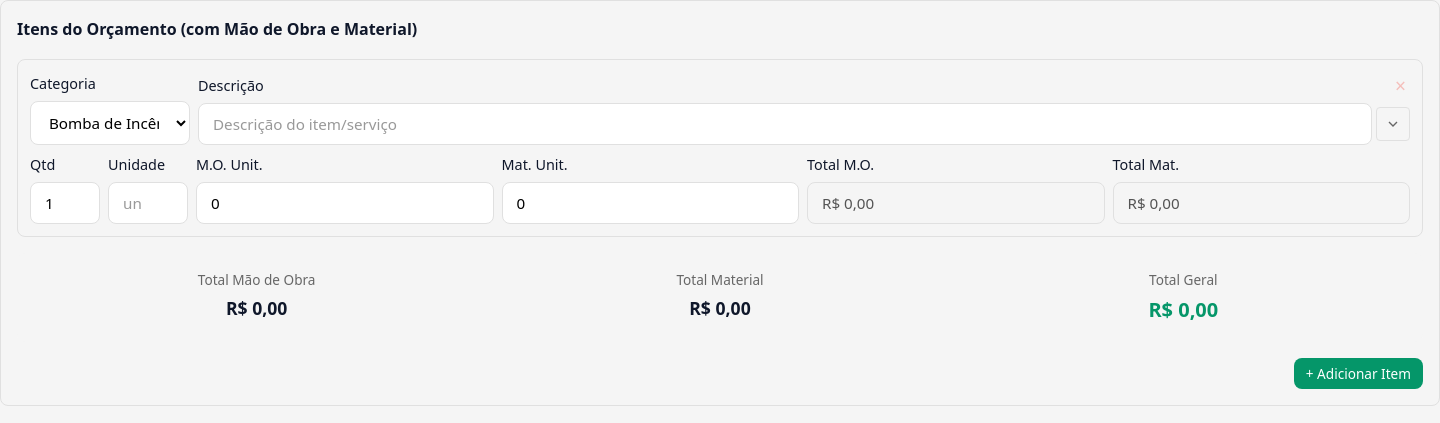
Scenario: ItensCompleto › Dropdown de itens pré-definidos › deve fechar dropdown ao selecionar item
Click the button titled "Ver itens pré-definidos" at (1393, 124), box [1376,107,1410,141]
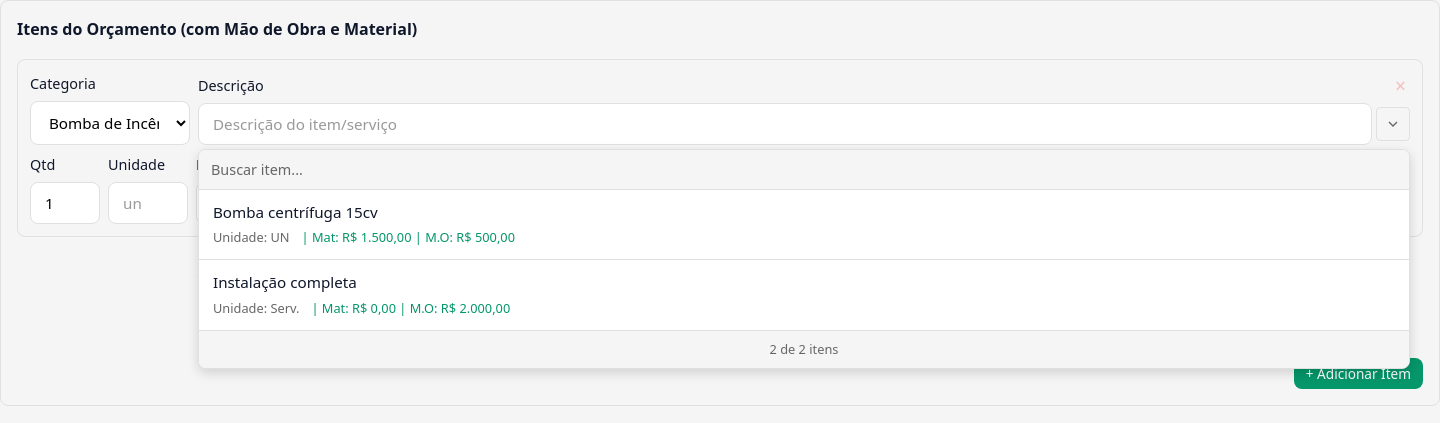
Check: the text "Bomba centrífuga 15cv" is shown
Click the text "Bomba centrífuga 15cv" at (295, 212), box [213,202,378,222]
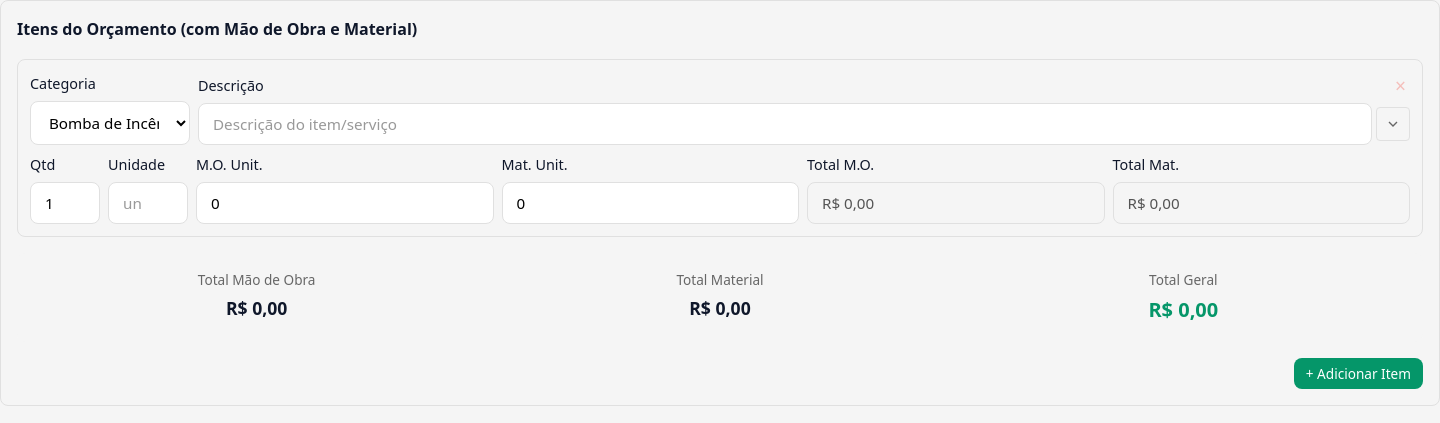
Check: the text "Instalação completa" is gone
